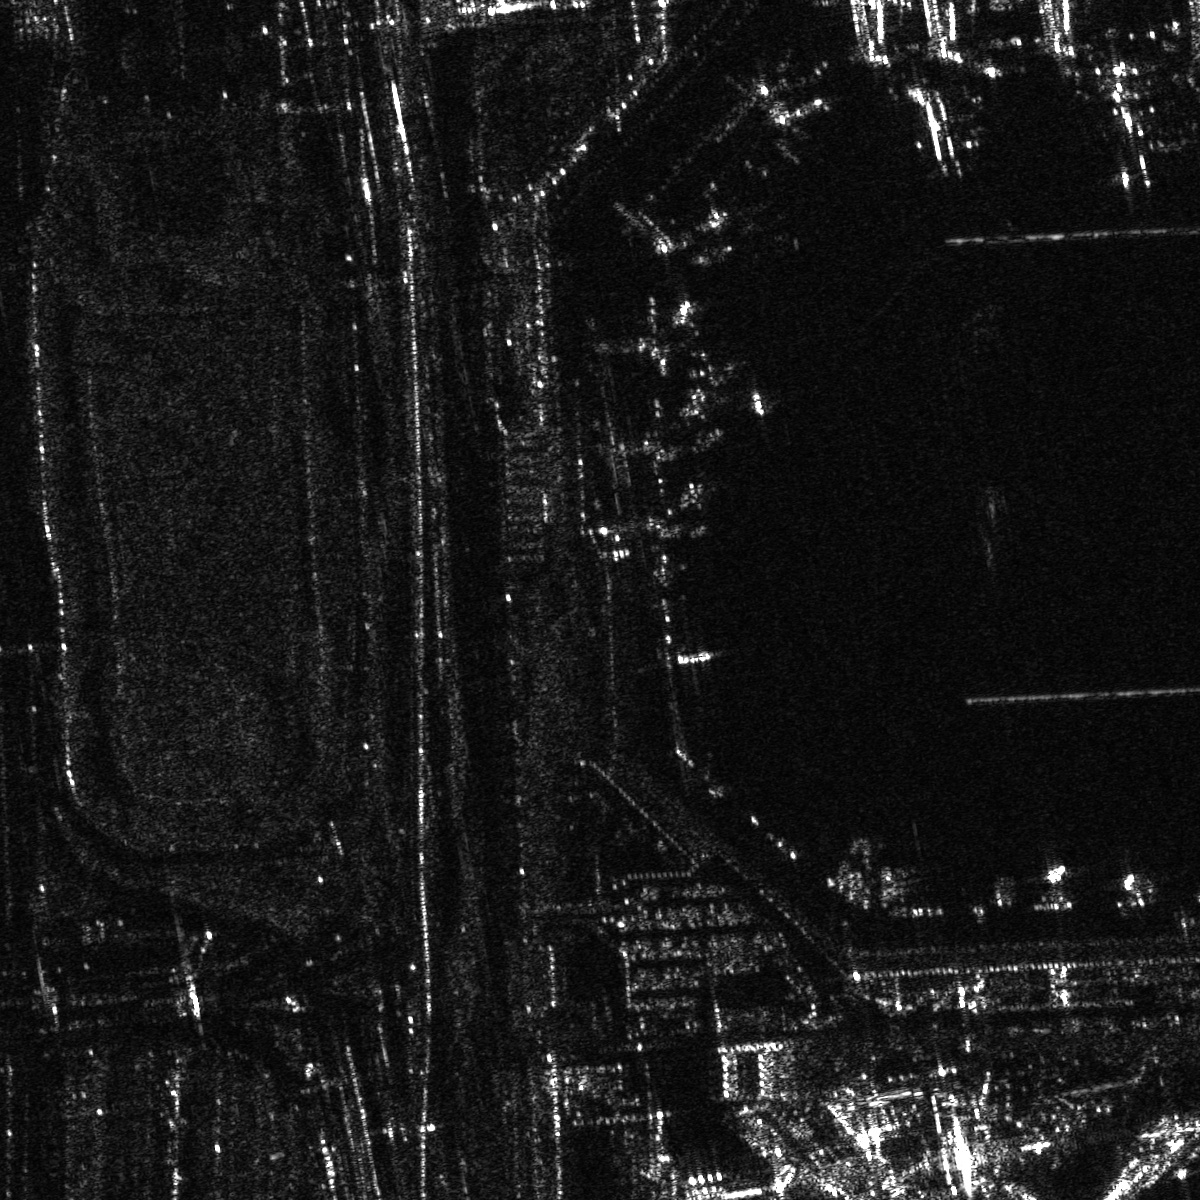Boeing737: (899, 70, 977, 176)
Boeing787: (1095, 77, 1180, 198)
